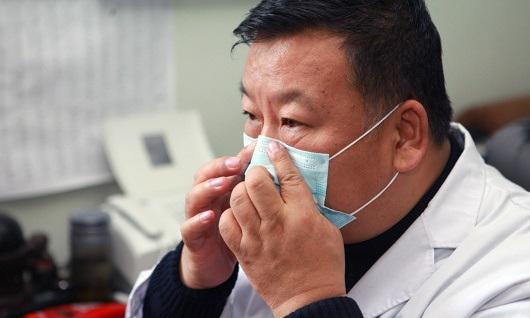OK: (241, 65, 368, 249)
